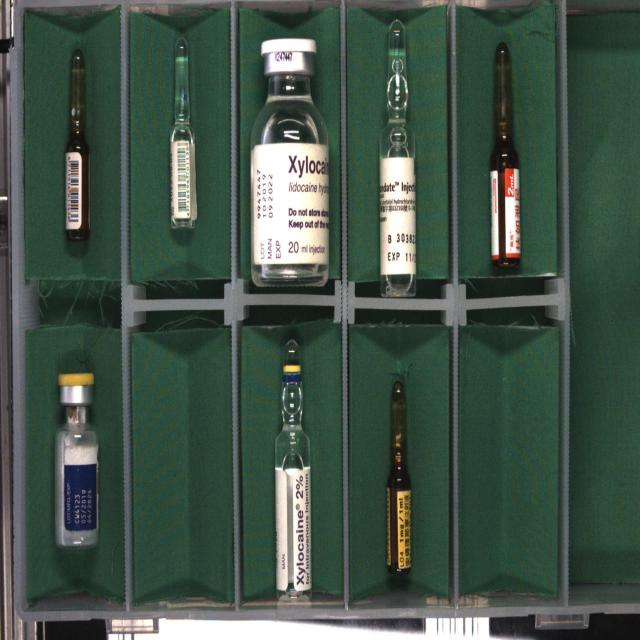Vials: (251, 38, 329, 286), (55, 373, 98, 548)
